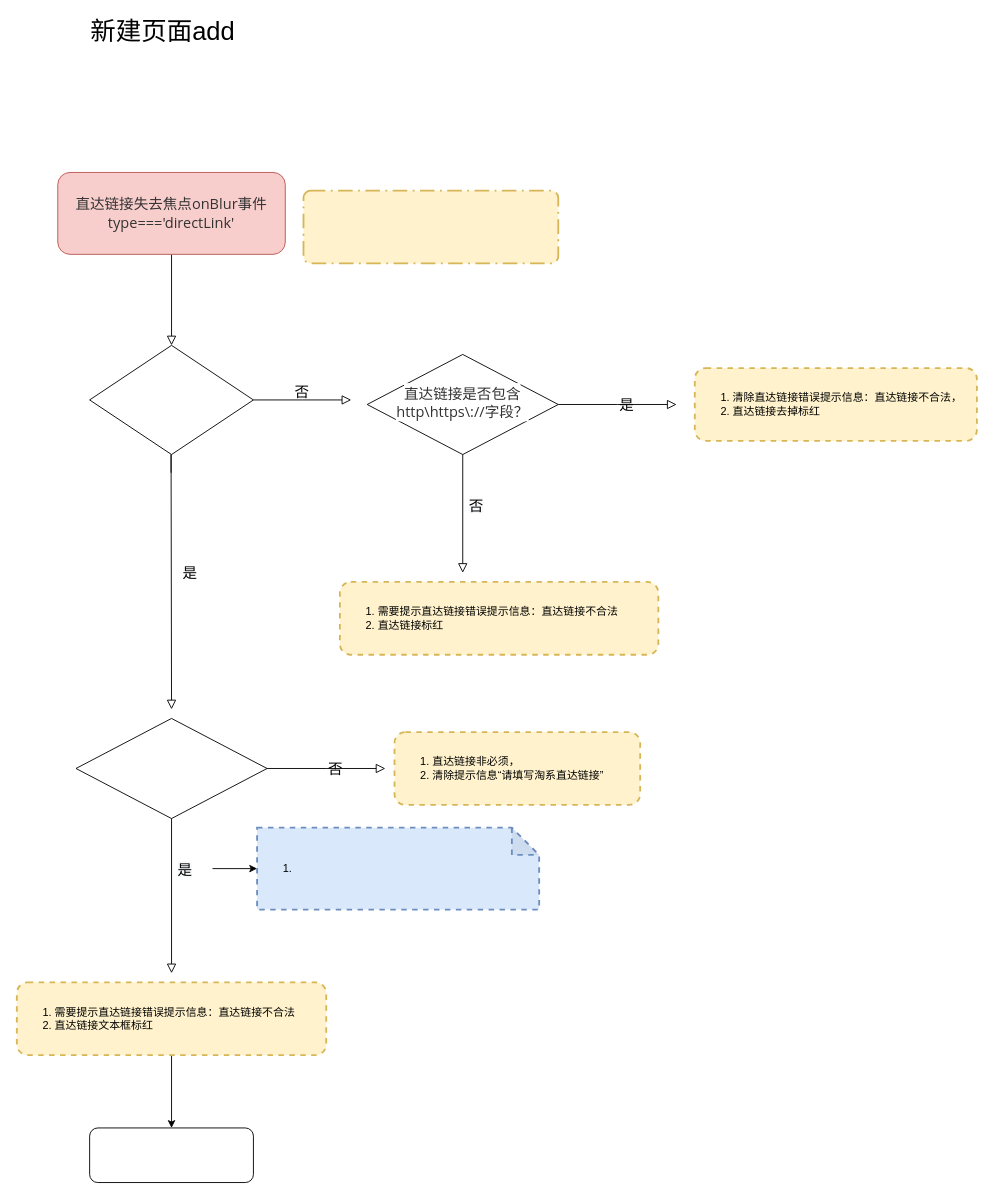
This 993x1198 diagram has some shape labels left out. The centre of each missing label's shape, as x and y in pixels:
"直达链接为空？" belongs at [171,399].
"结束" belongs at [171,1155].
"购买链接是否为淘系？" belongs at [171,768].
